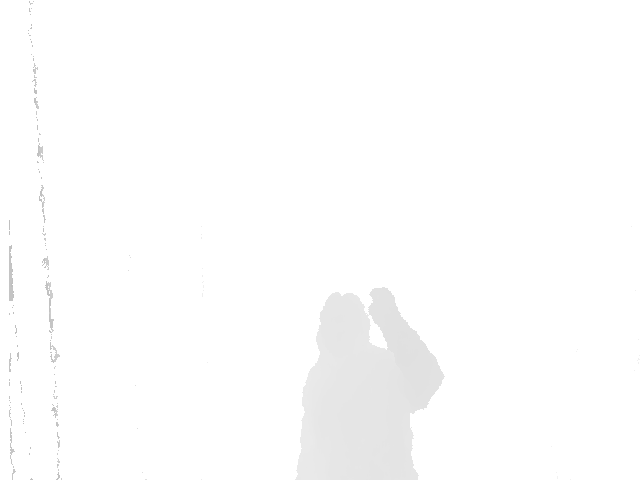hand: (368, 282, 405, 336)
head: (317, 290, 371, 362)
person: (295, 271, 442, 480)
